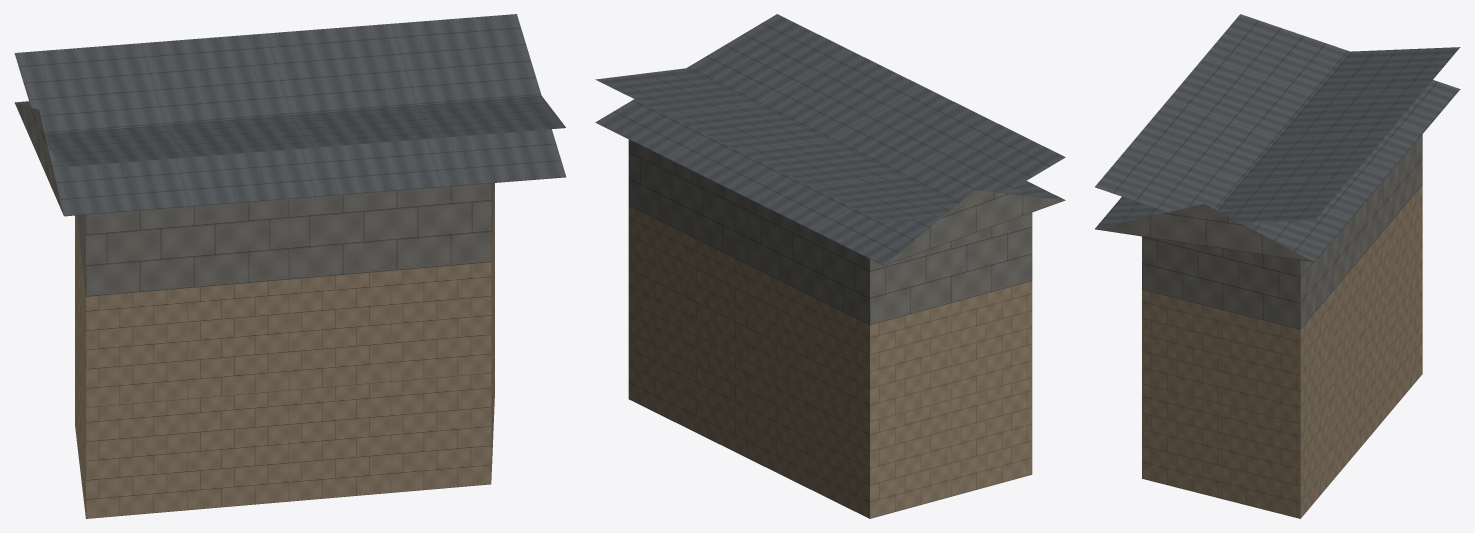
The model's file is bld_c18_23_451.gltf.
3 renders of one model, left to right at view 1: azimuth 30°, elevation 25°; view 2: azimuth 150°, elevation 25°; view 3: azimuth 270°, elevation 25°, orthographic. The views are drawn at different scales.
Parts seen in each view (by area): view 1: bld_c18_23_451; view 2: bld_c18_23_451; view 3: bld_c18_23_451.
Part boxes in pixels (<box>): bld_c18_23_451: <box>14,14,566,518</box>; bld_c18_23_451: <box>595,14,1065,518</box>; bld_c18_23_451: <box>1095,14,1460,518</box>.
Bounding box in the file's own units: 10.52 × 7.4 × 7.89.
Materials: 4 (4 with a texture image).
